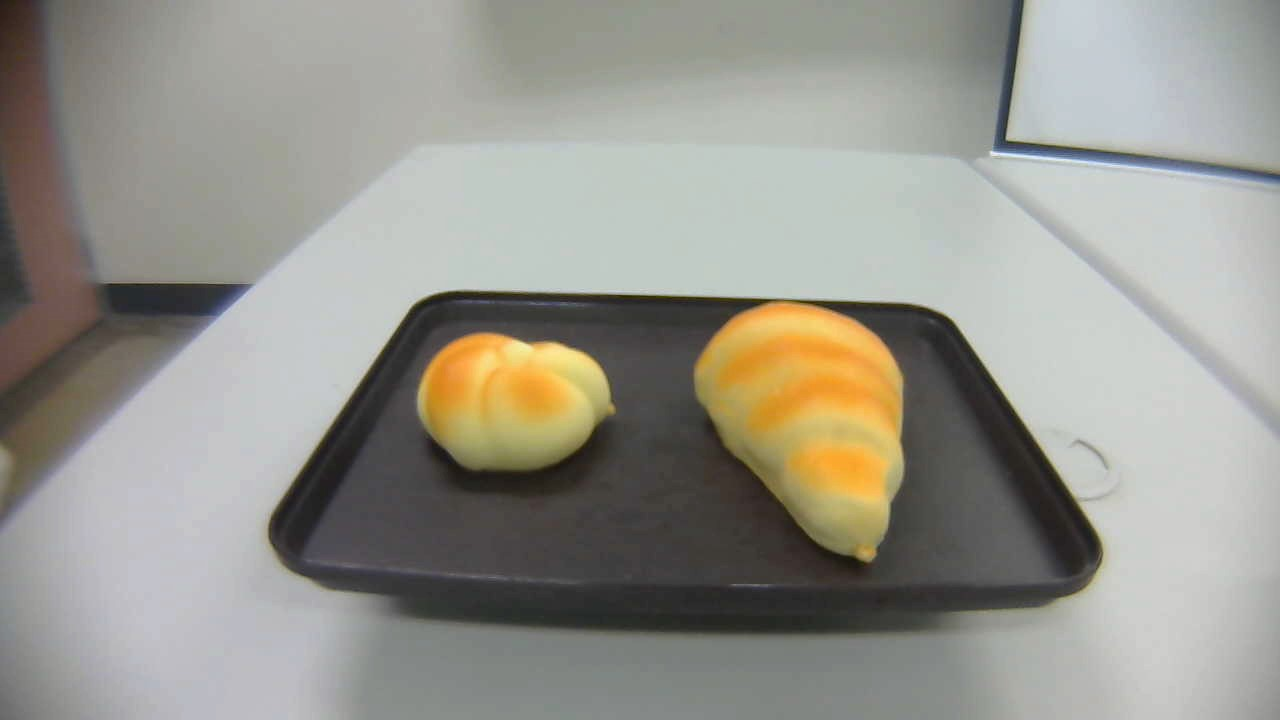croissant: (693, 299, 907, 567)
twist bread: (415, 332, 620, 474)
